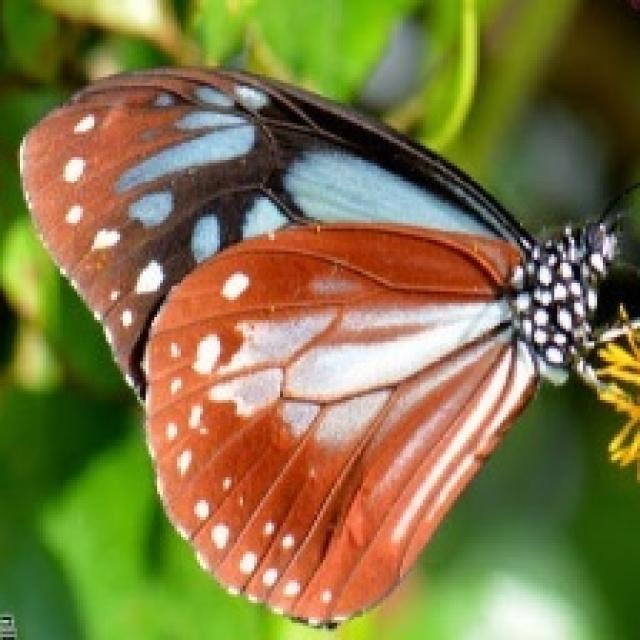butterfly: (14, 60, 637, 631)
